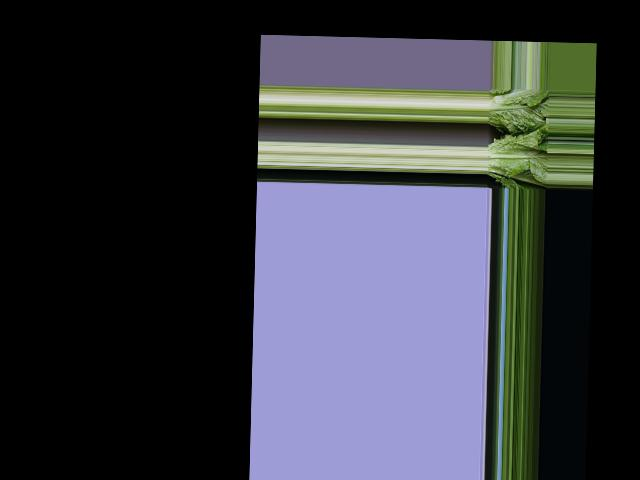lettuce: (487, 91, 546, 131)
